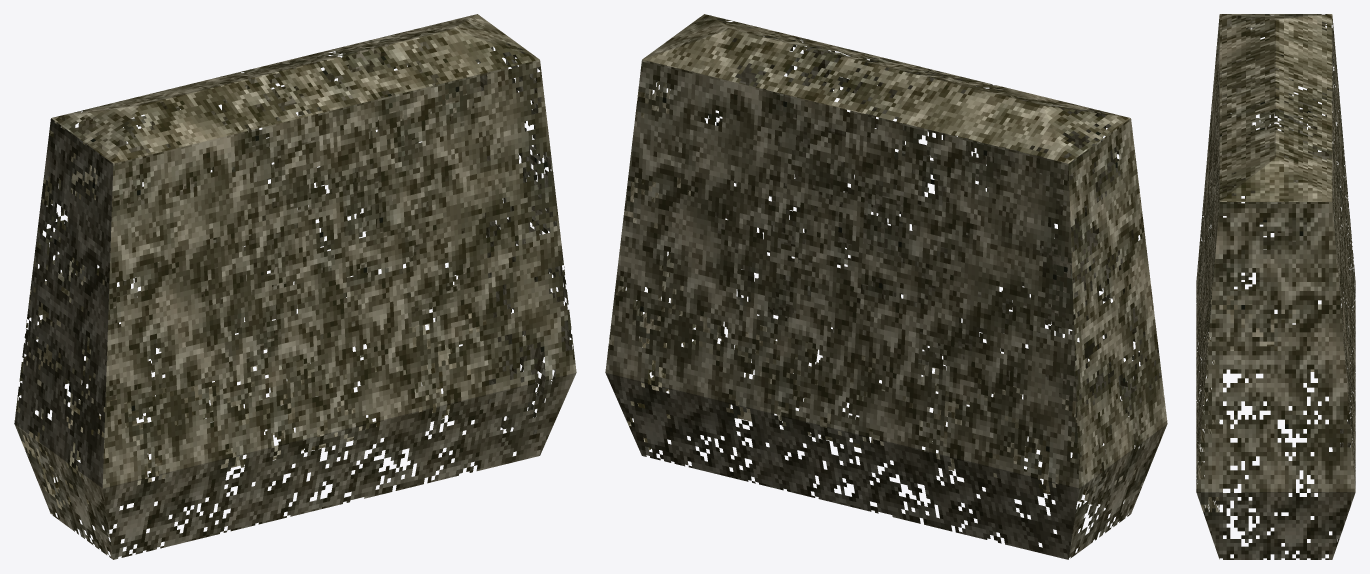
The model's file is bush_tall_single_dead.glb.
The picture shows the model from 3 angles, left to right: view 1: azimuth 30°, elevation 25°; view 2: azimuth 150°, elevation 25°; view 3: azimuth 270°, elevation 25°; orthographic projection. The views are drawn at different scales.
Visible parts, largest first — view 1: bush_tall_single_dead; view 2: bush_tall_single_dead; view 3: bush_tall_single_dead.
Part boxes in pixels (box(x1,y1,x2,y2)): bush_tall_single_dead: box(14, 14, 576, 559); bush_tall_single_dead: box(605, 14, 1167, 559); bush_tall_single_dead: box(1196, 14, 1355, 559).
Bounding box in the file's own units: 2.23 × 1.88 × 0.7191.
1 material, 1 textured.
